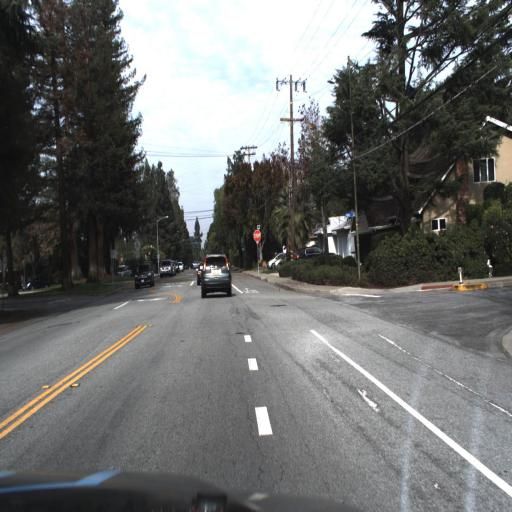car: (199, 251, 231, 303), (132, 263, 154, 292), (19, 272, 51, 291), (22, 273, 55, 291), (133, 261, 153, 289), (293, 243, 322, 262), (156, 257, 177, 280)
